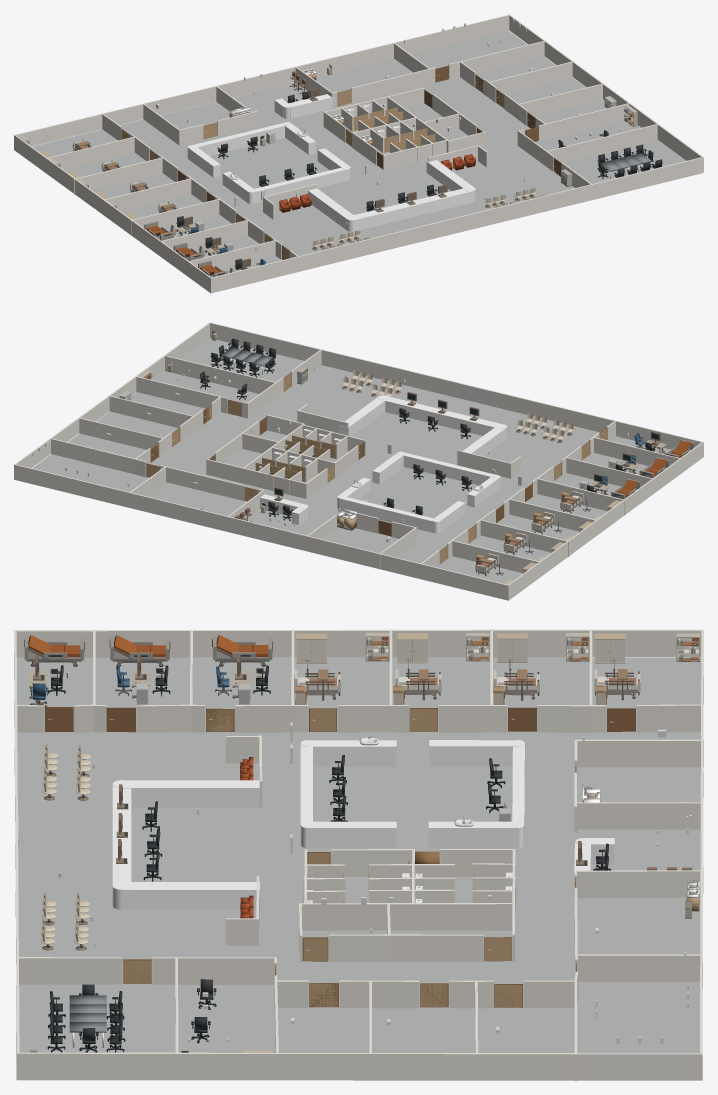
The model's file is hospital.glb.
The picture shows the model from 3 angles, top to bottom: view 1: azimuth 30°, elevation 25°; view 2: azimuth 150°, elevation 25°; view 3: azimuth 270°, elevation 25°; orthographic projection. The views are drawn at different scales.
Visible parts, largest first — view 1: hospital_L1__wall_1__wall_1, Hospital_Floor, Reception_Front_Body, hospital_L1__wall_2__wall_2, Reception_Front_Body.001, Reception_Front_Body.002, hospital_L1__wall_3__wall_3, Reception_Left_Body, Reception_Right_Body, Reception_Front_Body.003, Reception_Right_Body.002, Reception_Left_Body.002 (+1 smaller); view 2: hospital_L1__wall_1__wall_1, Hospital_Floor, Reception_Front_Body, hospital_L1__wall_3__wall_3, hospital_L1__wall_2__wall_2, Reception_Front_Body.002, Reception_Front_Body.001, Reception_Right_Body, Reception_Left_Body, Reception_Right_Body.001, Reception_Left_Body.001, Reception_Right_Body.002; view 3: Hospital_Floor, hospital_L1__wall_1__wall_1, hospital_L1__wall_2__wall_2, Reception_Left_Body, Reception_Right_Body, Reception_Right_Body.001, Reception_Left_Body.002, Reception_Right_Body.002, Reception_Left_Body.001, Reception_Front_Body, hospital_L1__wall_3__wall_3, Reception_Front_Body.002 (+8 smaller).
Boxes of the visible parts, box(x1,y1,x2,y2) form: hospital_L1__wall_1__wall_1: box(14, 14, 703, 293); Hospital_Floor: box(32, 30, 702, 273); Reception_Front_Body: box(354, 188, 472, 231); hospital_L1__wall_2__wall_2: box(341, 103, 433, 166); Reception_Front_Body.001: box(253, 167, 348, 203); Reception_Front_Body.002: box(192, 123, 284, 155); hospital_L1__wall_3__wall_3: box(263, 145, 487, 211); Reception_Left_Body: box(308, 188, 354, 230); Reception_Right_Body: box(426, 160, 473, 190); Reception_Front_Body.003: box(289, 94, 332, 118); Reception_Right_Body.002: box(188, 146, 220, 177); Reception_Left_Body.002: box(284, 123, 315, 154); hospital_L1__wall_1__wall_1: box(14, 322, 703, 600); Hospital_Floor: box(18, 338, 670, 583); Reception_Front_Body: box(385, 396, 501, 435); hospital_L1__wall_3__wall_3: box(297, 404, 511, 478); hospital_L1__wall_2__wall_2: box(272, 428, 347, 494); Reception_Front_Body.002: box(339, 497, 434, 533); Reception_Front_Body.001: box(403, 452, 495, 485); Reception_Right_Body: box(339, 397, 386, 436); Reception_Left_Body: box(462, 426, 506, 455); Reception_Right_Body.001: box(372, 453, 404, 484); Reception_Left_Body.001: box(467, 476, 500, 507); Reception_Right_Body.002: box(434, 501, 465, 532); Hospital_Floor: box(16, 657, 701, 1079); hospital_L1__wall_1__wall_1: box(14, 629, 703, 1080); hospital_L1__wall_2__wall_2: box(303, 863, 516, 904); Reception_Left_Body: box(123, 780, 259, 807); Reception_Right_Body: box(122, 882, 259, 909); Reception_Right_Body.001: box(307, 821, 396, 848); Reception_Left_Body.002: box(428, 821, 518, 848); Reception_Right_Body.002: box(429, 740, 518, 766); Reception_Left_Body.001: box(308, 740, 396, 766); Reception_Front_Body: box(112, 785, 131, 884); hospital_L1__wall_3__wall_3: box(225, 735, 262, 945); Reception_Front_Body.002: box(512, 744, 524, 834).
Size of the model in its own units: 37.98 by 1.69 by 26.04.
Materials: 111 (1 with a texture image).
